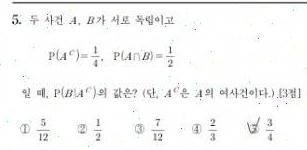choice: (246, 119, 260, 136)
not-choice: (17, 122, 32, 136), (75, 122, 88, 136), (133, 121, 146, 135), (190, 122, 203, 136)
